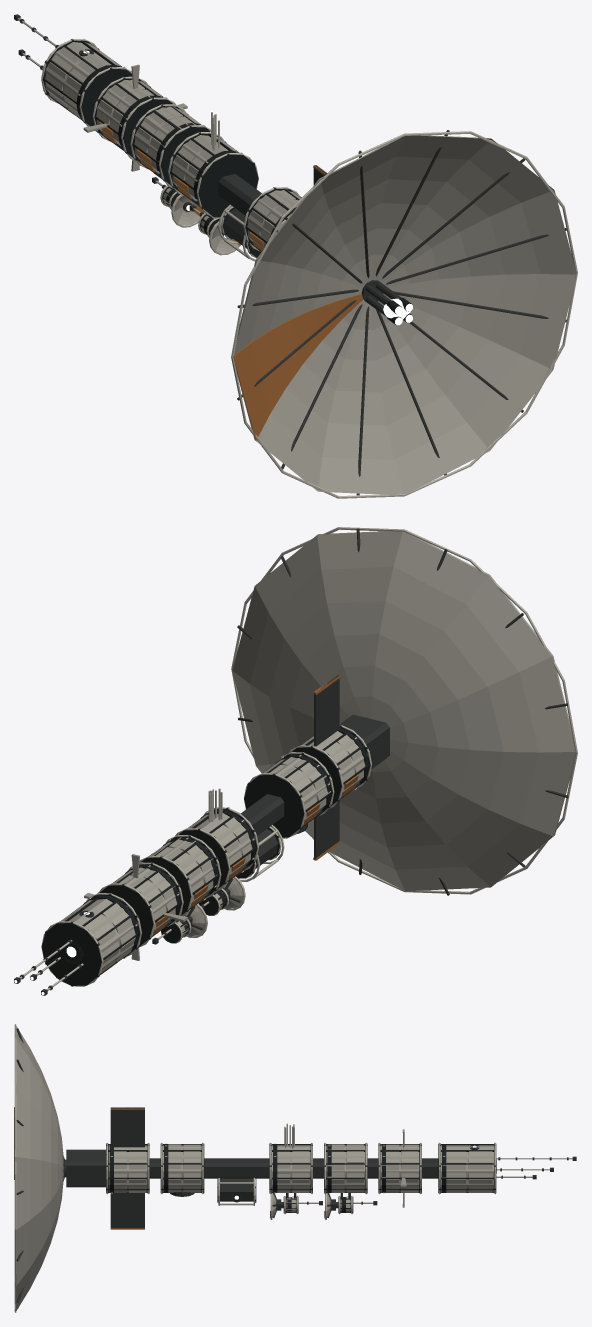
3 views of the same model, one above another, from view 1: azimuth 30°, elevation 25°; view 2: azimuth 150°, elevation 25°; view 3: azimuth 270°, elevation 25° (orthographic). The views are drawn at different scales.
Visible parts, largest first — view 1: RIMWARD_HULL; view 2: RIMWARD_HULL; view 3: RIMWARD_HULL.
Part boxes in pixels (x1=…): RIMWARD_HULL: x1=14, y1=14, x2=577, y2=498; RIMWARD_HULL: x1=14, y1=527, x2=577, y2=995; RIMWARD_HULL: x1=14, y1=1024, x2=576, y2=1312.
Size of the model in its own units: 16.14 by 16.14 by 31.49.
